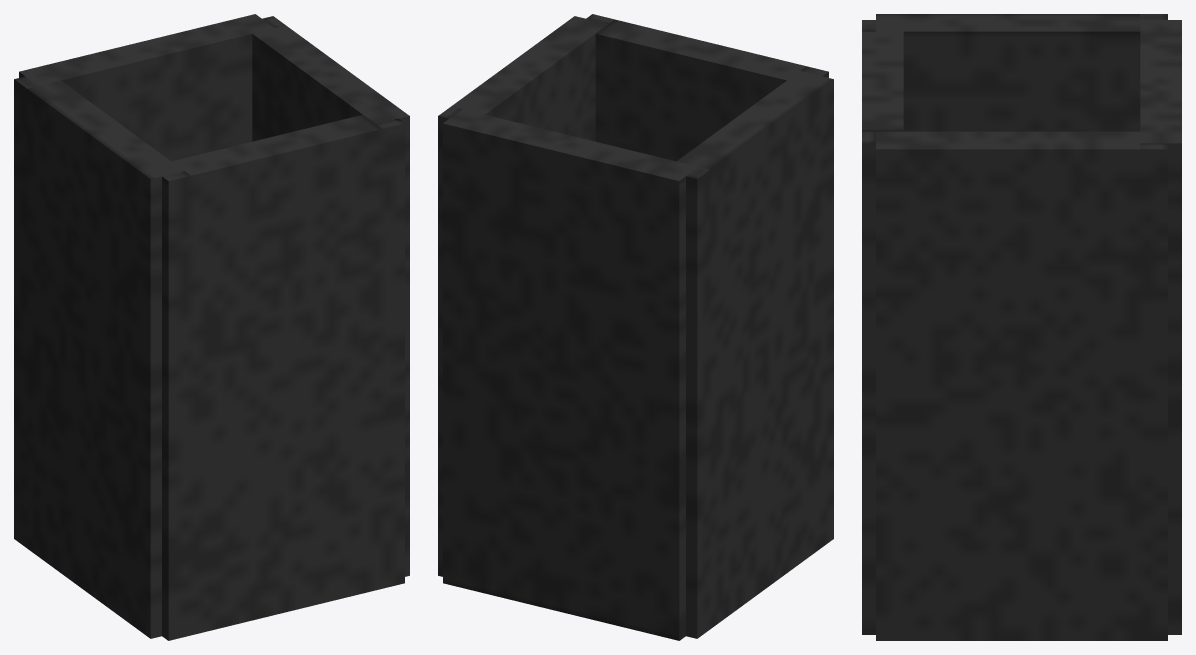
Rendered from kosz_na_smiec_beton.dae.
3 views of the same model, side by side, from view 1: azimuth 30°, elevation 25°; view 2: azimuth 150°, elevation 25°; view 3: azimuth 270°, elevation 25° (orthographic). The views are drawn at different scales.
Visible parts, largest first — view 1: Content; view 2: Content; view 3: Content.
Boxes of the visible parts, x1=… form: Content: x1=14, y1=14, x2=409, y2=640; Content: x1=438, y1=14, x2=833, y2=640; Content: x1=862, y1=14, x2=1181, y2=640.
Size of the model in its own units: 23 by 39 by 23.
1 material, 1 textured.
